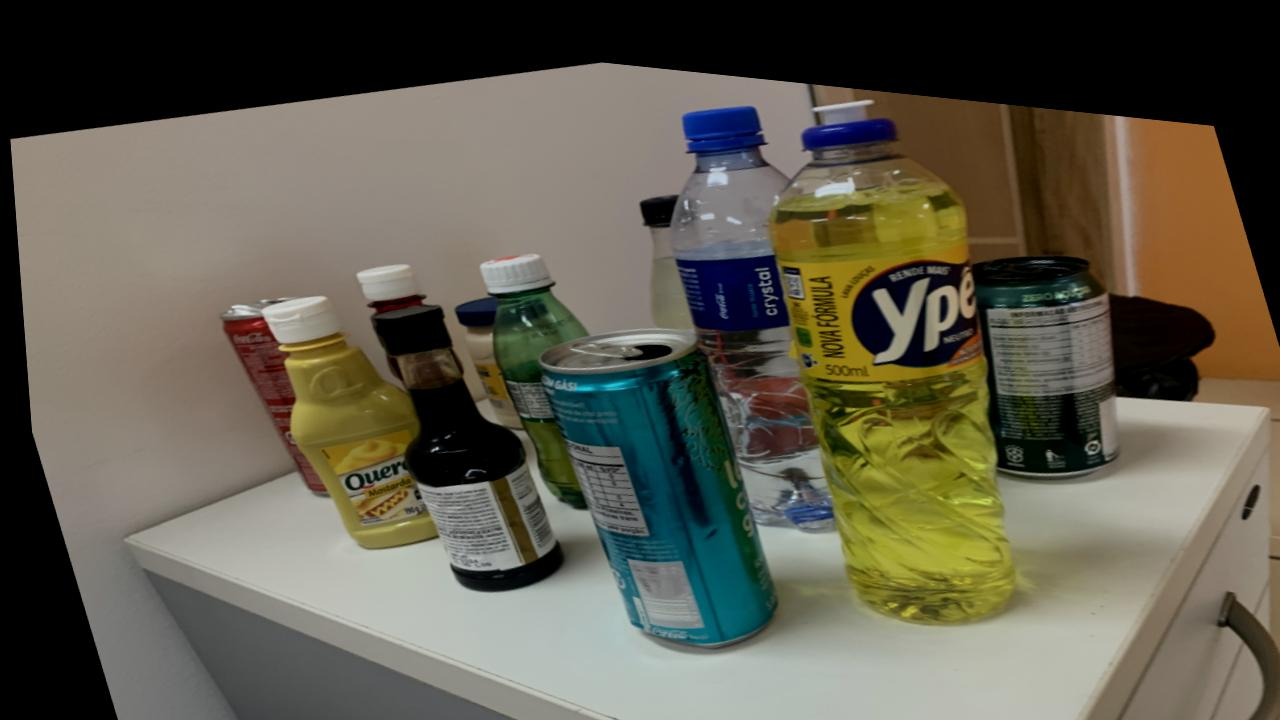Coke-Drinks: (214, 293, 318, 487), (216, 293, 319, 487)
Detergent-Cleanup_Items: (766, 81, 1007, 603)
English_Sauce-Pantry_Items: (366, 295, 554, 581)
Guarana-Drinks: (476, 242, 583, 496)
Guarana_Can-Drinks: (970, 232, 1117, 456), (970, 232, 1114, 455)
Ketchup-Pantry_Items: (352, 255, 422, 304)
Mayonnaise-Pantry_Items: (450, 285, 506, 408), (496, 397, 515, 418)
Mustard-Pantry_Items: (259, 288, 429, 541)
Soda-Drinks: (638, 180, 690, 315)
Tea-Drinks: (532, 313, 769, 631)
Water_Bottle-Drinks: (667, 90, 828, 515)
